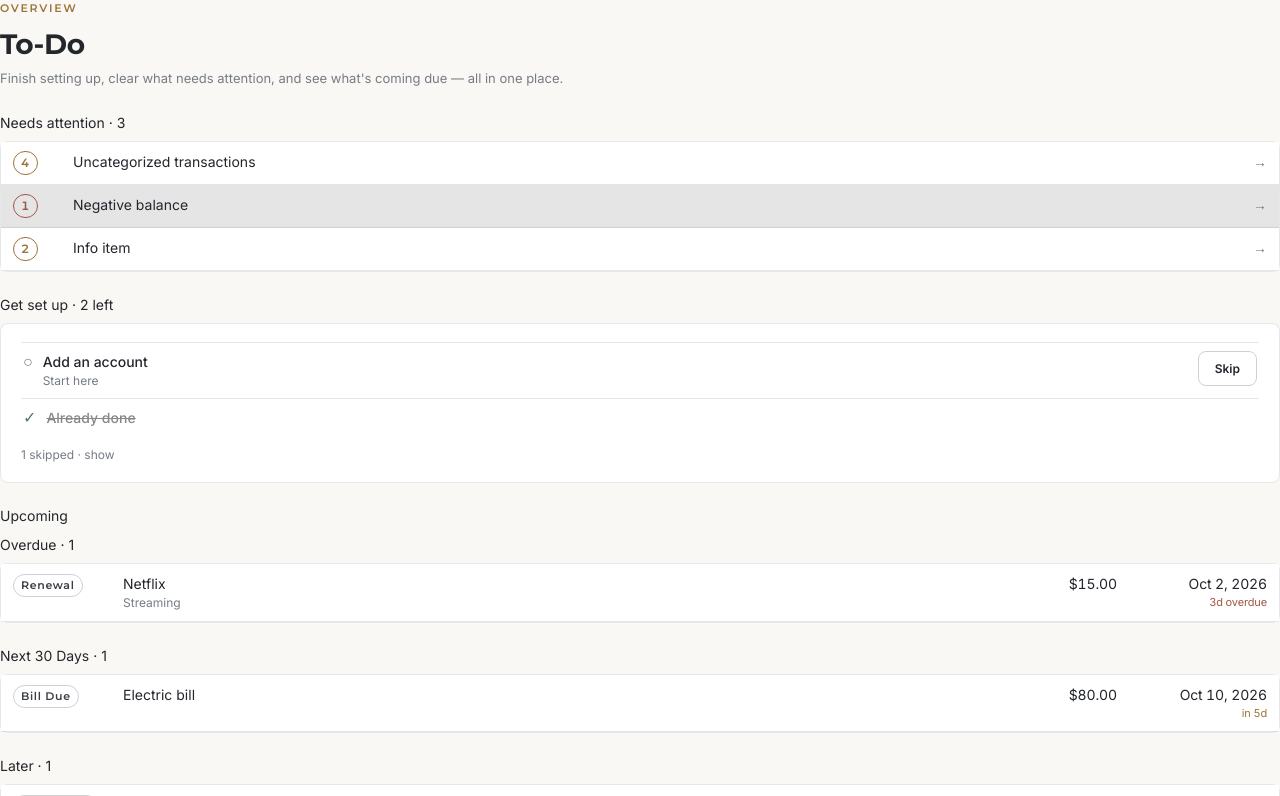
Test: Reminders page › skips a setup item, then shows/restores skipped items
The width and height of the screenshot is (1280, 796).
Click the button "Skip". click: (1227,368)
box: [1198,351,1257,386]
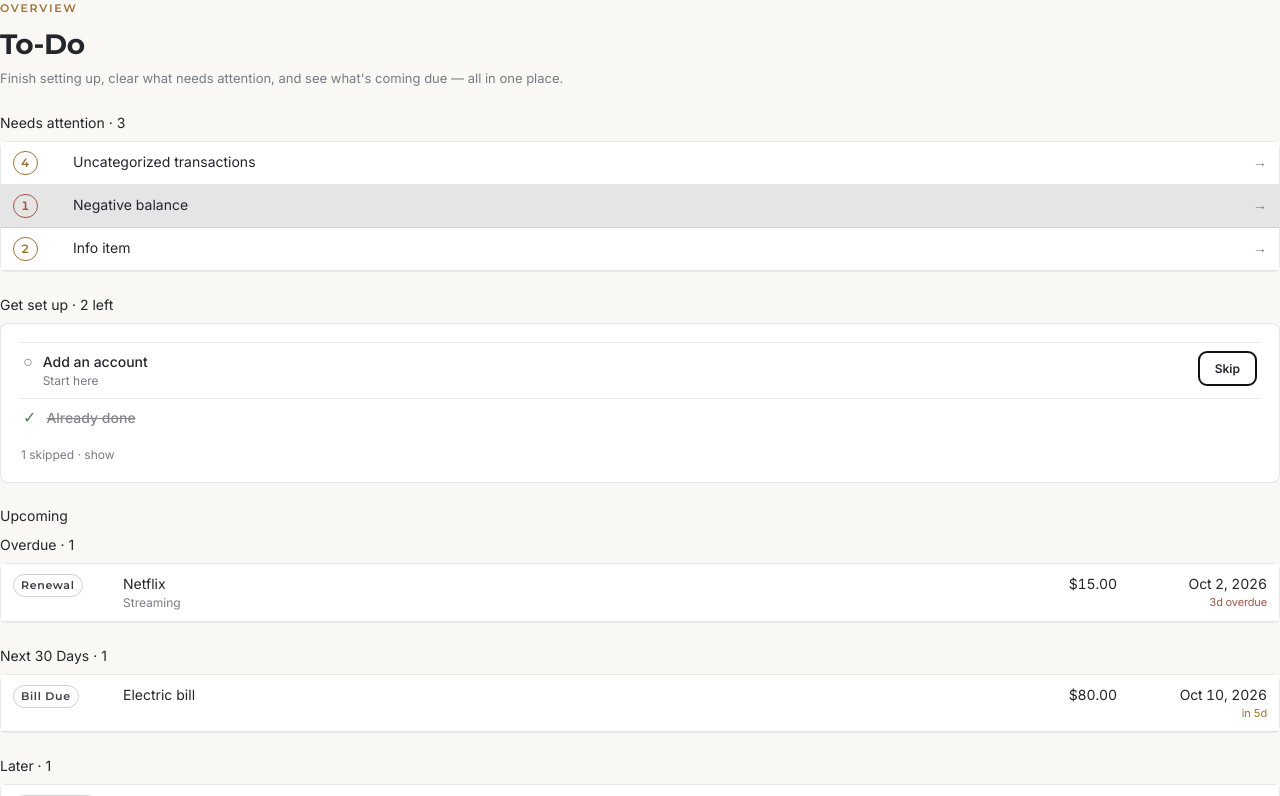
Reveal skipped list, then restore.
Click the link "show". click: (99,454)
box: [84,447,114,462]
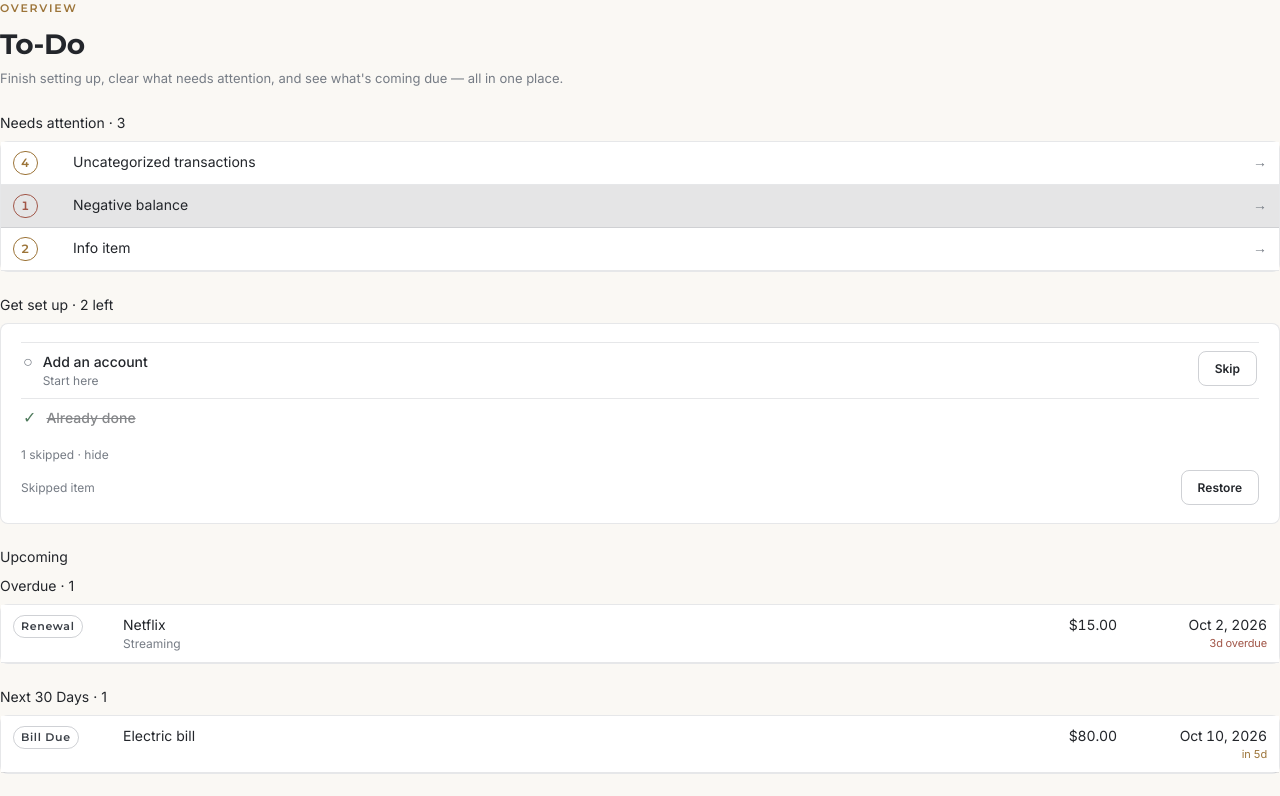
Result: the text "Skipped item" is shown at [21,478,95,496]
Click the button "Restore". click: (1220,488)
box: [1181,470,1259,505]
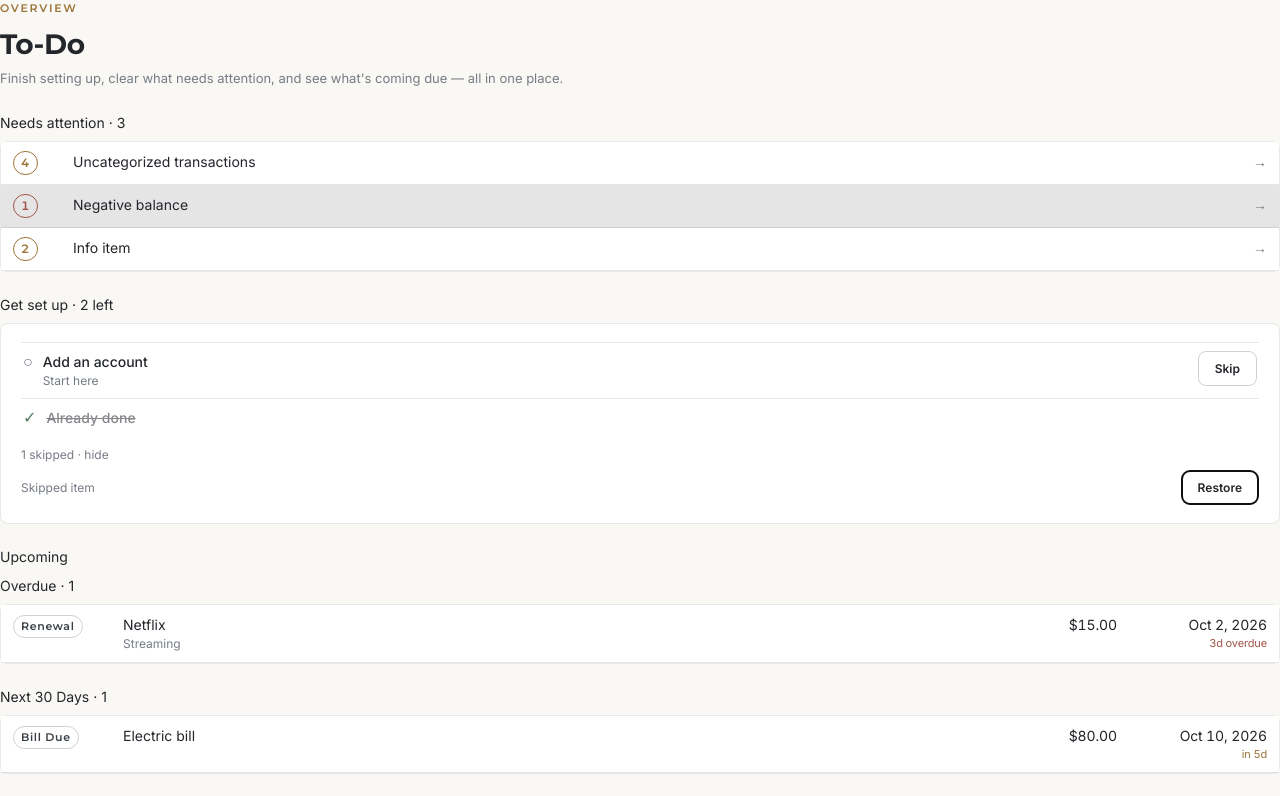
Toggle back to hide.
Click the link "hide". click: (96,454)
box: [84,447,109,462]
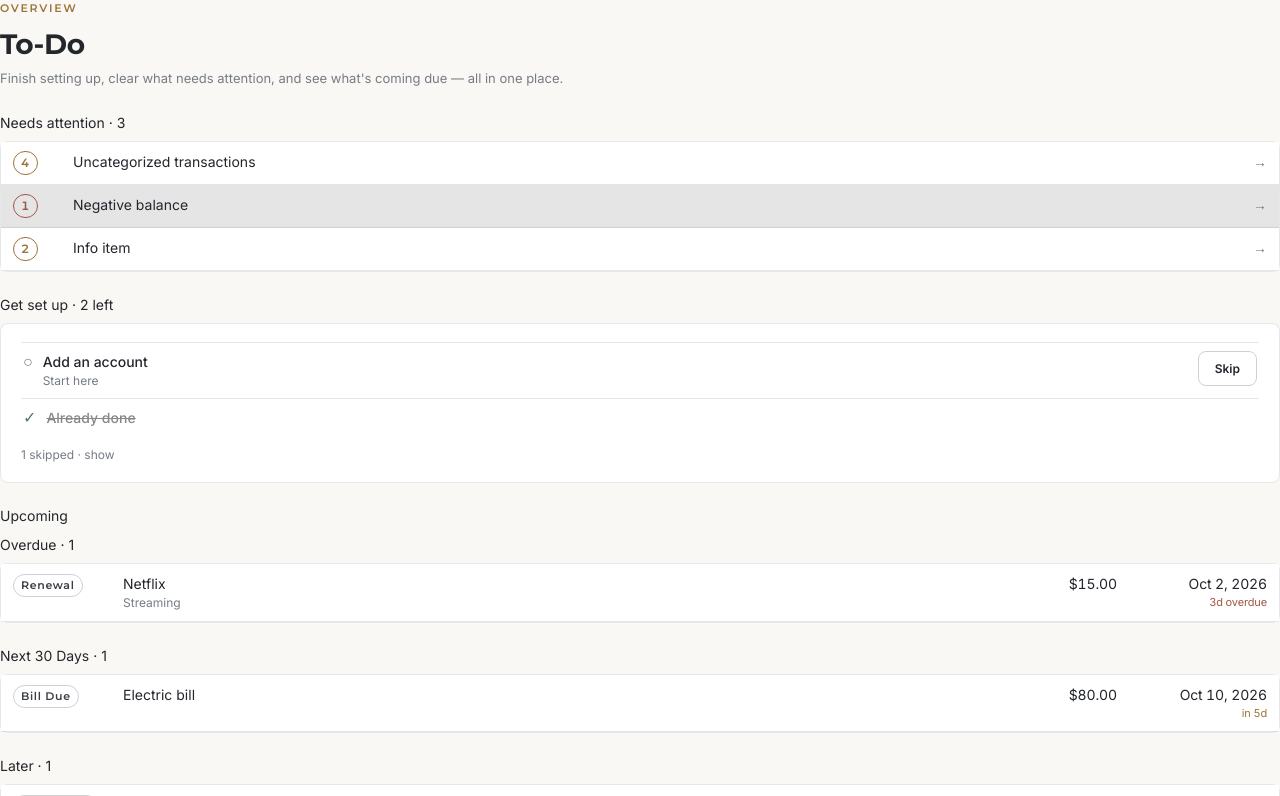
Result: the text "Skipped item" is gone
